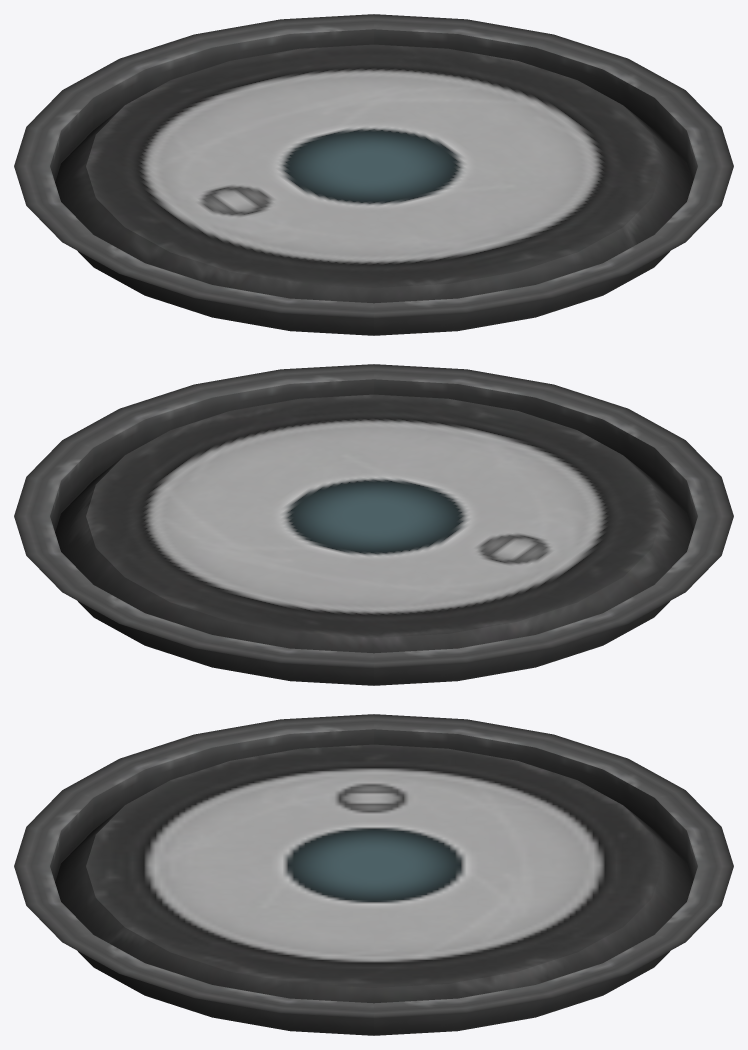
File: end_crew_s0.obj
3 views of the same model, one above another, from view 1: azimuth 30°, elevation 25°; view 2: azimuth 150°, elevation 25°; view 3: azimuth 270°, elevation 25° (orthographic).
Parts seen in each view (by area): view 1: end; view 2: end; view 3: end.
Boxes of the visible parts, x1,y1,x2,y2 form: end: (14,14,733,335); end: (14,364,733,685); end: (14,714,733,1035).
Bounding box in the file's own units: 0.625 × 0.0312 × 0.625.
